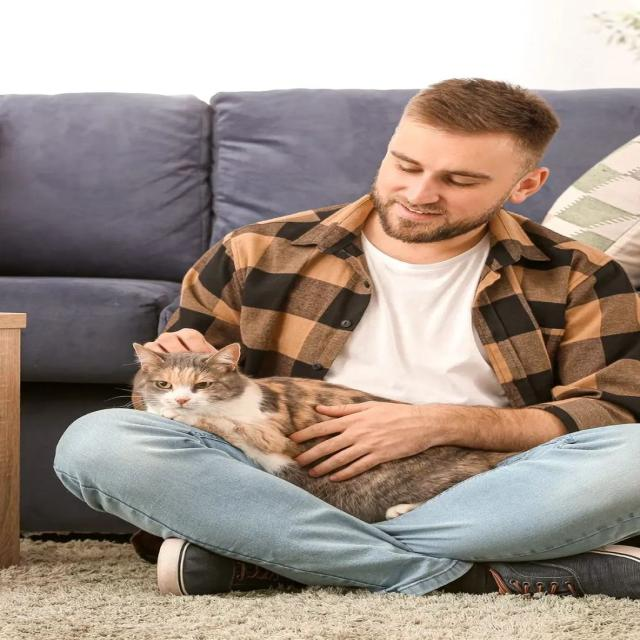cat: (90, 328, 317, 446)
person: (228, 75, 601, 295)
